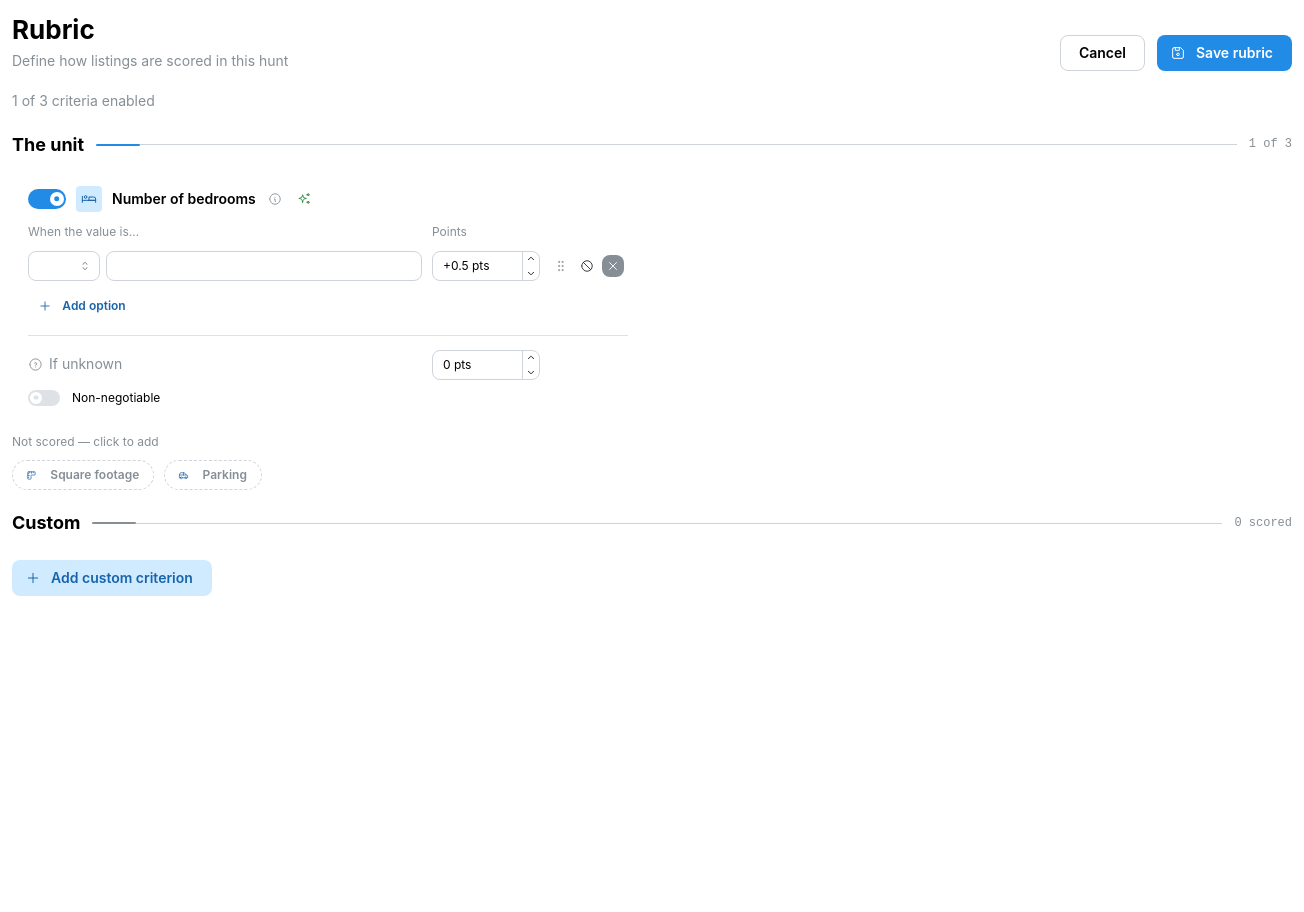
Test: RubricEditor › validates only on Save, not live: an already-invalid draft keeps Save enabled until clicked
expect the text "Fix before saving" is not shown: met
Click the button "Save rubric". click: (1224, 53)
box: x1=1157 y1=35 x2=1292 y2=71
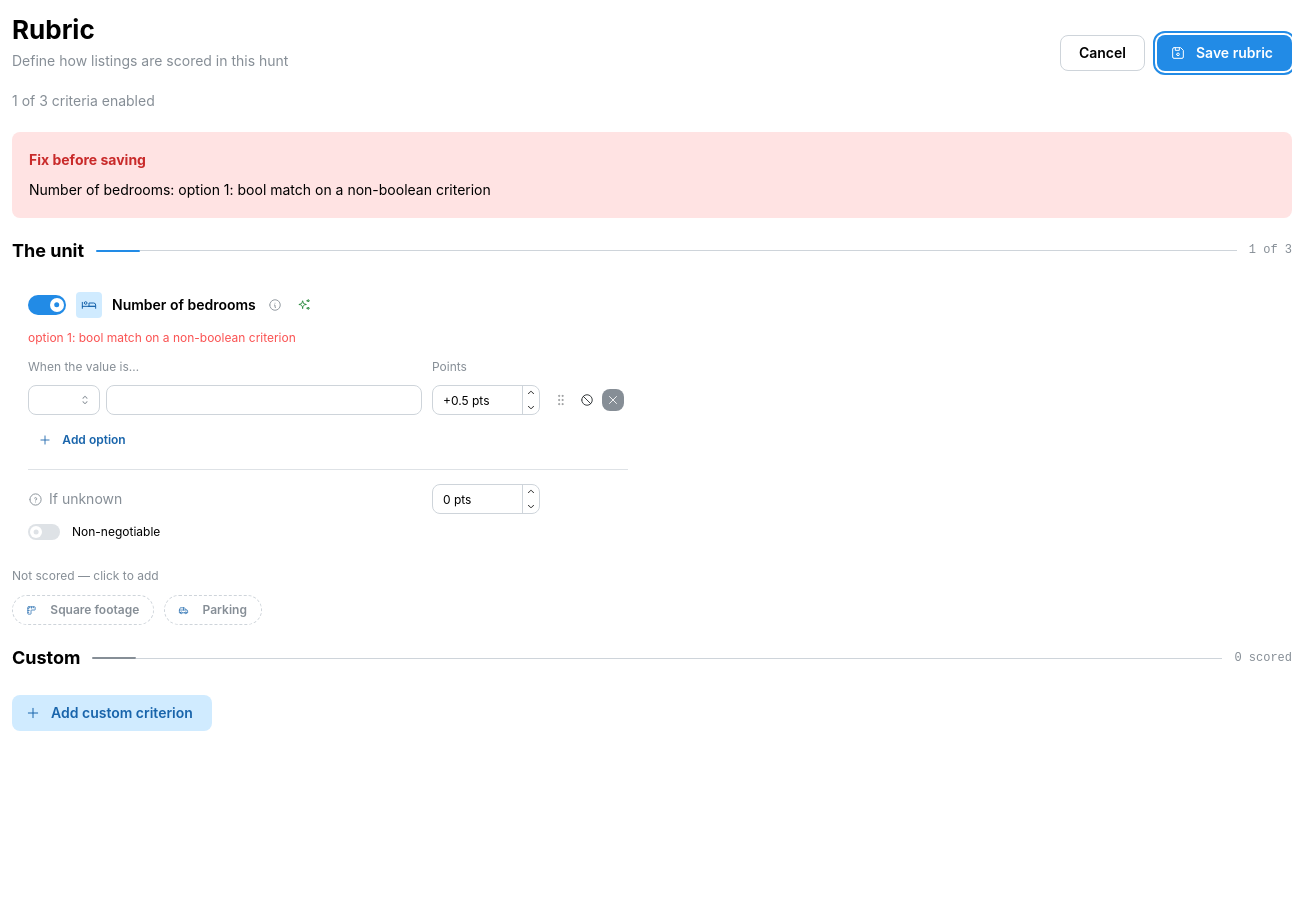
expect the text "Fix before saving" is shown: met, box x1=29 y1=149 x2=146 y2=170
expect the text "bool match on a non-boolean criterion" is shown 2 times: met, box x1=29 y1=181 x2=491 y2=198; x1=28 y1=330 x2=296 y2=345
